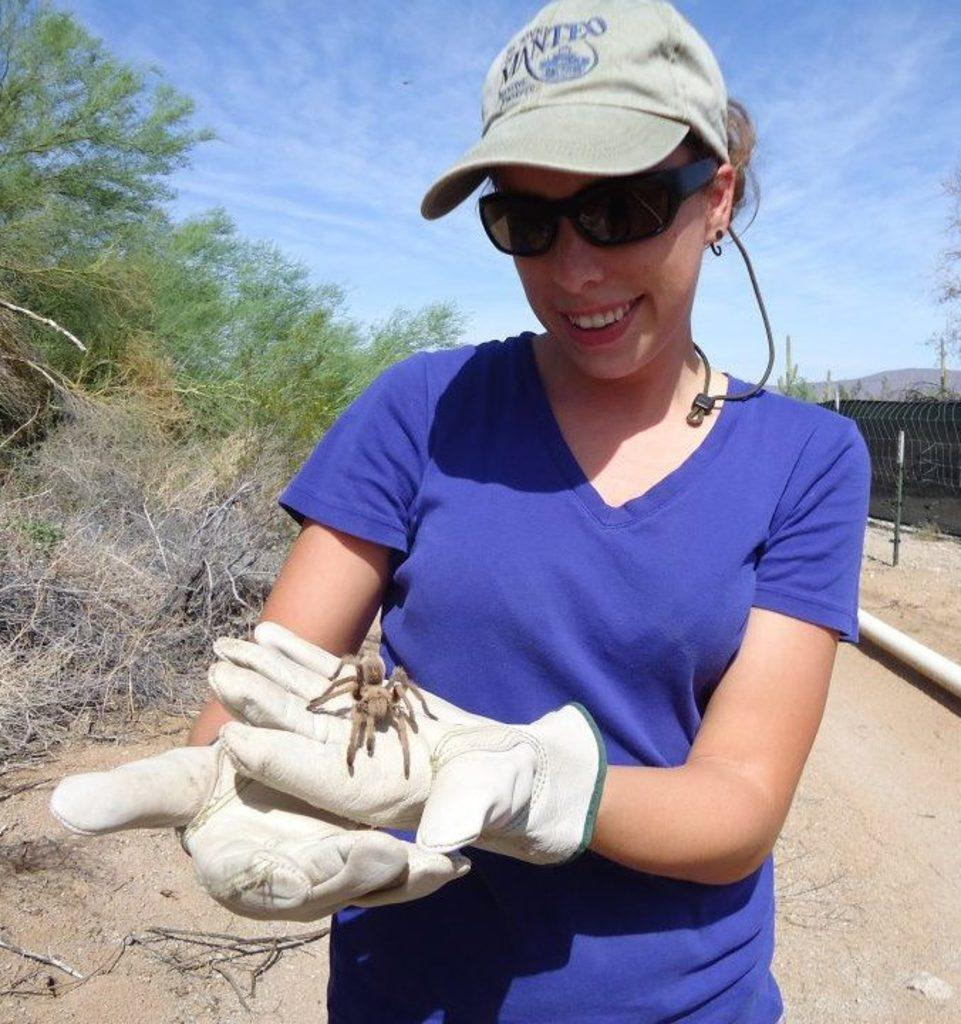Hat: (417, 0, 733, 227)
